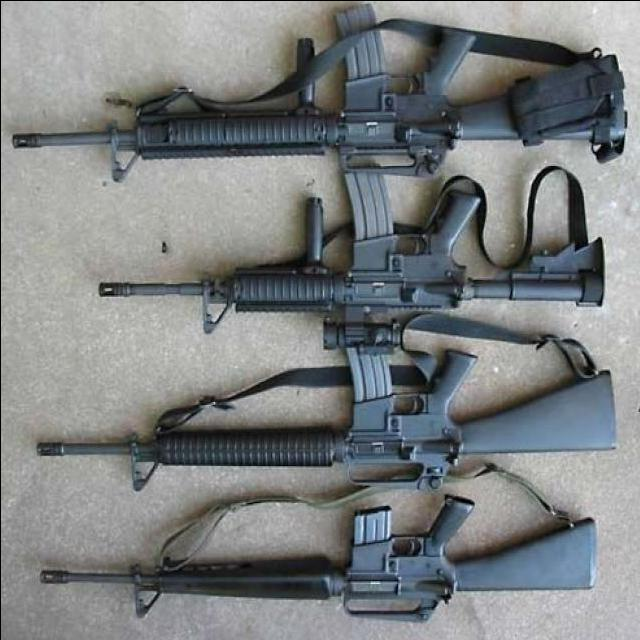rifle: (6, 8, 626, 170), (94, 184, 624, 345), (31, 352, 621, 490), (33, 495, 609, 629)
